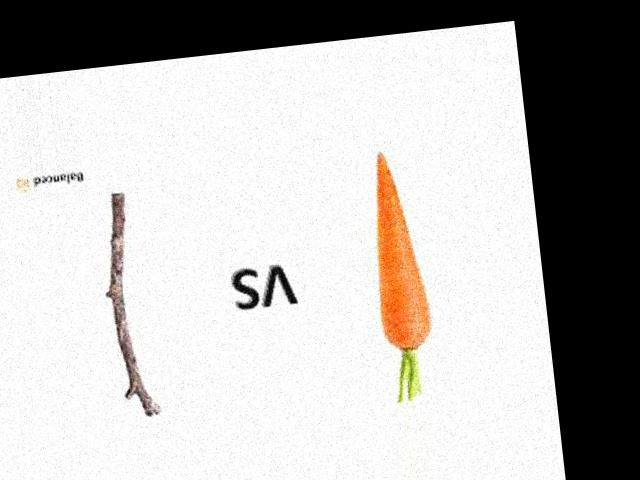carrot: (352, 141, 437, 363)
